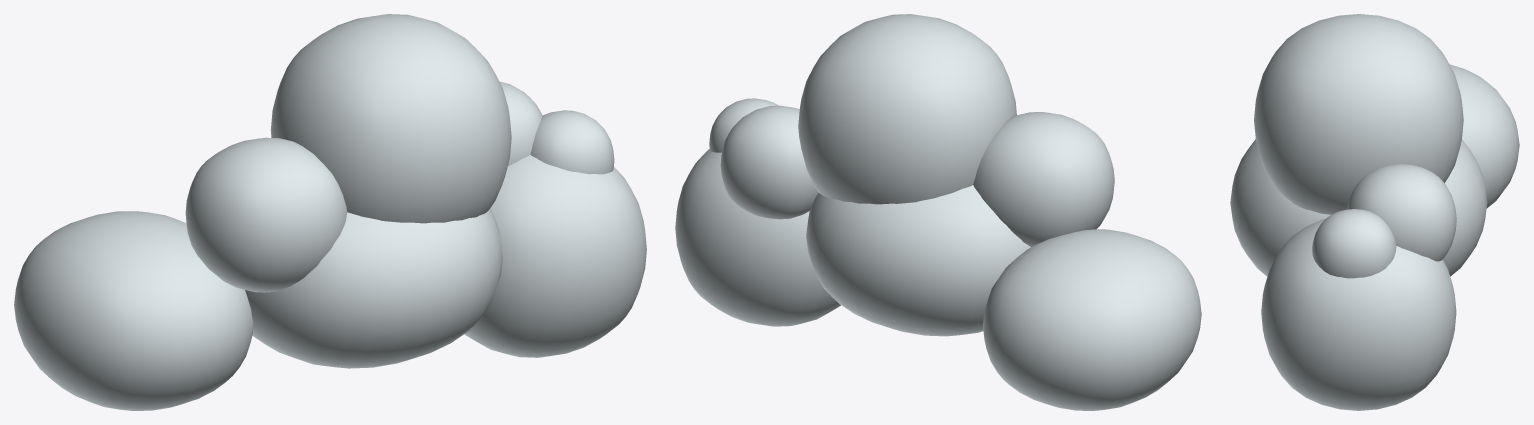
The model's file is cloud.glb.
3 renders of one model, left to right at view 1: azimuth 30°, elevation 25°; view 2: azimuth 150°, elevation 25°; view 3: azimuth 270°, elevation 25°, orthographic. The views are drawn at different scales.
Visible parts, largest first — view 1: Cube; view 2: Cube; view 3: Cube.
Boxes of the visible parts, <box> form: Cube: <box>14,14,646,410</box>; Cube: <box>675,14,1201,410</box>; Cube: <box>1230,14,1519,410</box>.
Size of the model in its own units: 1.14 by 0.6808 by 0.569.
1 material, 1 textured.
